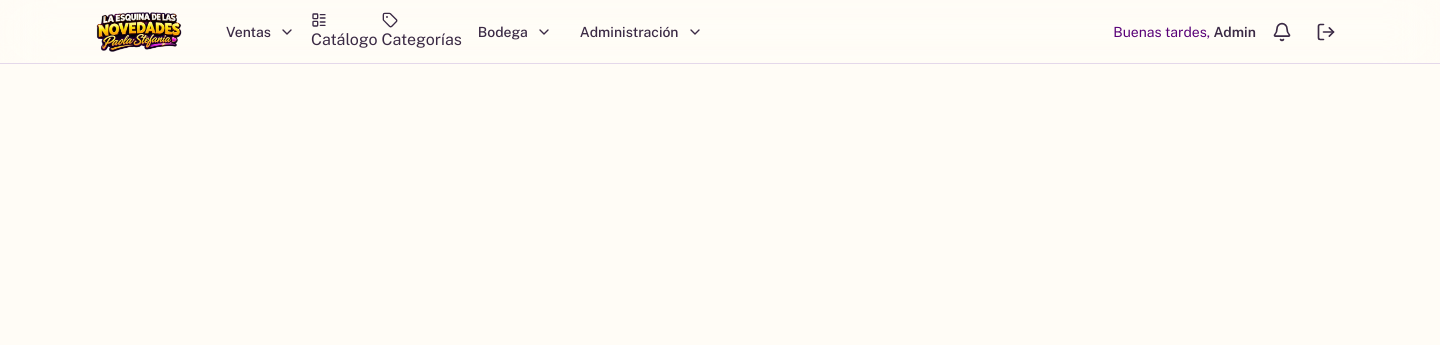
Test: TopNav — solo MVP (dropdowns abiertos) › dropdown Ventas › SI contiene Sala de Venta
This screenshot has width=1440, height=345.
Hover over the button "Ventas" at (260, 32), box [214,14,307,50]
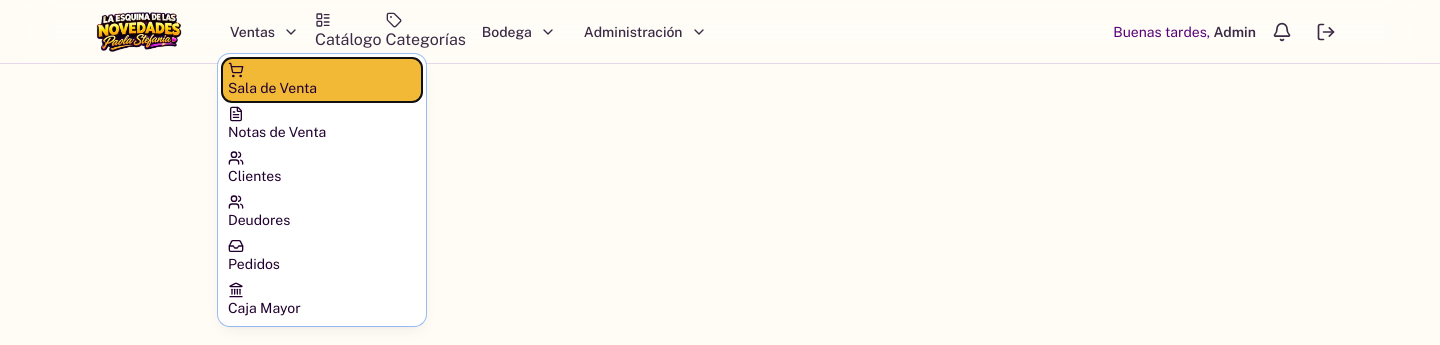
Check: the link "Sala de Venta" is shown, box [228,62,317,98]
